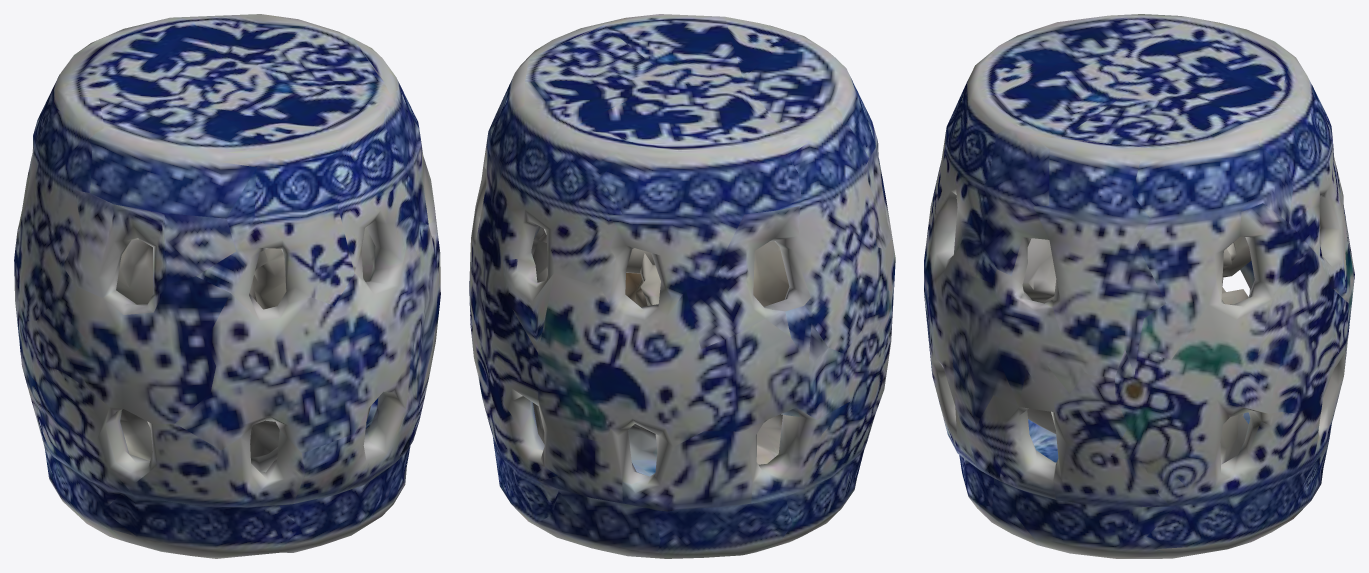
File: cidun.glb
3 renders of one model, left to right at view 1: azimuth 30°, elevation 25°; view 2: azimuth 150°, elevation 25°; view 3: azimuth 270°, elevation 25°, orthographic.
Parts seen in each view (by area): view 1: tripo_node_f366dfa5-125b-41d8-beca-7f252900f580; view 2: tripo_node_f366dfa5-125b-41d8-beca-7f252900f580; view 3: tripo_node_f366dfa5-125b-41d8-beca-7f252900f580.
Boxes of the visible parts, x1,y1,x2,y2 form: tripo_node_f366dfa5-125b-41d8-beca-7f252900f580: (14,14,440,558); tripo_node_f366dfa5-125b-41d8-beca-7f252900f580: (469,14,895,558); tripo_node_f366dfa5-125b-41d8-beca-7f252900f580: (924,14,1354,558).
Bounding box in the file's own units: 0.9405 × 1 × 0.9424.
Materials: 1 (1 with a texture image).
